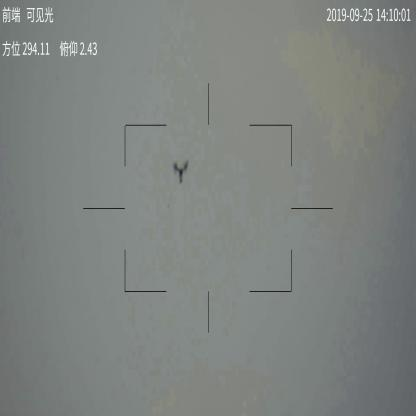uav: (173, 158, 189, 183)
